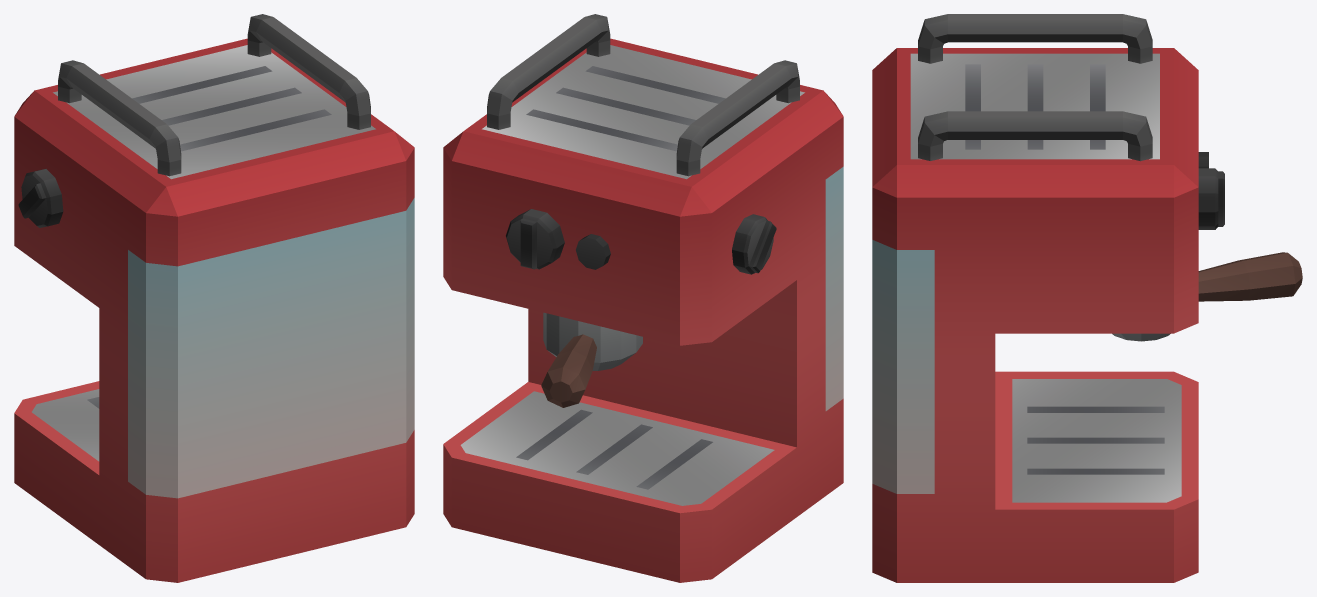
Rendered from Station Coffee Machine.fbx.
3 views of the same model, side by side, from view 1: azimuth 30°, elevation 25°; view 2: azimuth 150°, elevation 25°; view 3: azimuth 270°, elevation 25° (orthographic). The views are drawn at different scales.
Visible parts, largest first — view 1: Station_Coffee_Machine; view 2: Station_Coffee_Machine; view 3: Station_Coffee_Machine.
Part boxes in pixels (x1,y1,x2,y2): Station_Coffee_Machine: [14, 14, 414, 582]; Station_Coffee_Machine: [443, 14, 843, 582]; Station_Coffee_Machine: [872, 14, 1302, 582].
Bounding box in the file's own units: 171 × 242 × 210.
